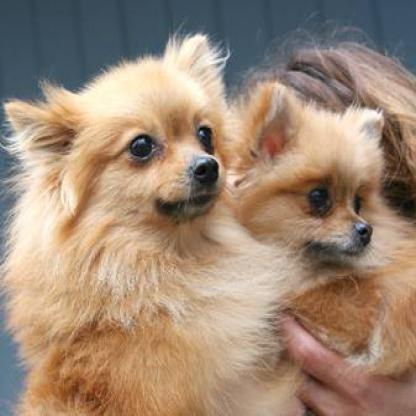dog: (18, 52, 231, 264), (238, 89, 388, 315)
